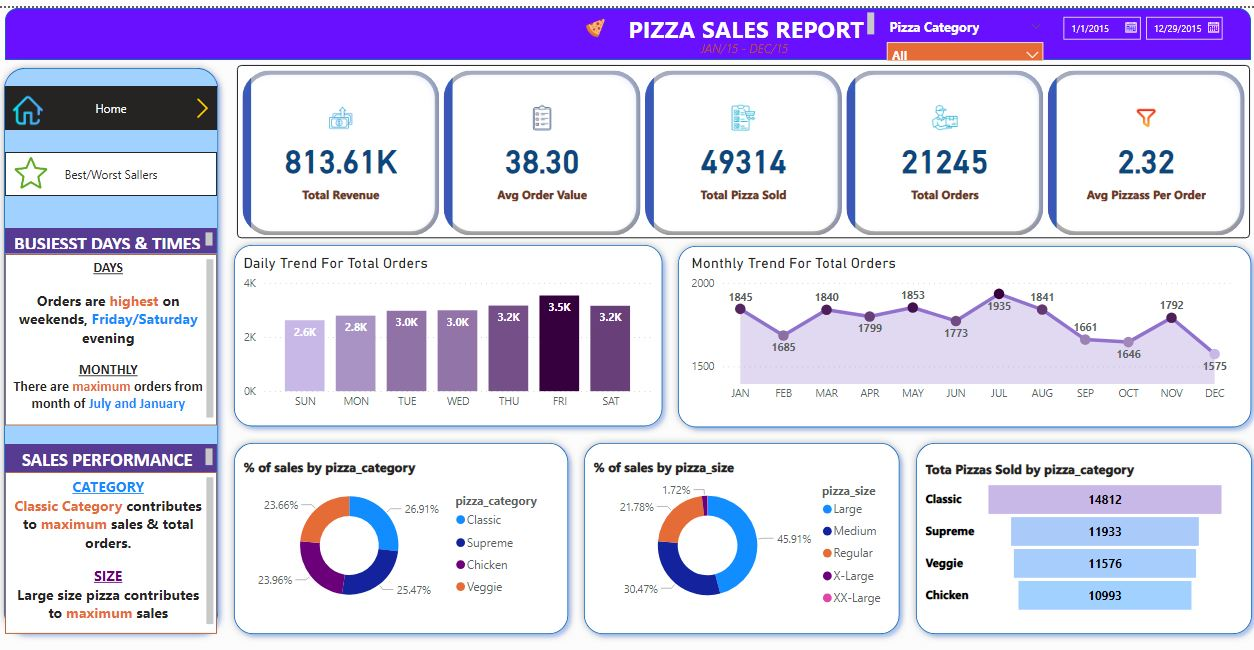

The page's visual inventory and layout, read from the dashboard file:
{"tool":"powerbi","page":{"name":"Home","canvas":[1500,820],"ordinal":0},"visuals":[{"type":"cardVisual","fields":{"Data":["pizza_sales.Total Revenue","pizza_sales.Avg Order Value","pizza_sales.Total Pizza Sold","pizza_sales.Total Orders","pizza_sales.Avg Pizzass Per Order"]},"box":[323.5,64.7,1152.3,197.1],"z":0},{"type":"shape","box":[59.1,0,1417,59.1],"z":1000},{"type":"textbox","box":[759.4,0,292.7,39.6],"z":2000},{"type":"textbox","box":[844.8,32.3,143.8,30.2],"z":3000},{"type":"image","box":[700,7.3,59.4,32.3],"z":4000},{"type":"shape","box":[48.5,59.6,261.8,661.1],"z":5000},{"type":"shape","box":[310.3,260.8,505.4,224.4],"z":6000},{"type":"shape","box":[310.3,485.2,398.2,235.5],"z":7000},{"type":"textbox","box":[58.6,250.7,240.6,29.3],"z":8000},{"type":"shape","box":[708.6,485.2,377,235.5],"z":9000},{"type":"shape","box":[1085.6,485.2,400.3,235.5],"z":10000},{"type":"columnChart","title":"Daily Trend For Total Orders","fields":{"Category":["pizza_sales.Order Day"],"Y":["pizza_sales.Total Orders"]},"box":[325.5,280,474.1,186],"z":11000},{"type":"shape","box":[815.7,261.8,670.1,224.4],"z":12000},{"type":"areaChart","title":"Monthly Trend For Total Orders","fields":{"Category":["pizza_sales.Order Month"],"Y":["pizza_sales.Total Orders"]},"box":[834.9,280,624.7,176.9],"z":13000},{"type":"donutChart","title":"% of sales by pizza_category","fields":{"Category":["pizza_sales.pizza_category"],"Y":["pizza_sales.Total Revenue"]},"box":[325.5,511.5,359.8,178.9],"z":14000},{"type":"donutChart","title":"% of sales by pizza_size","fields":{"Category":["pizza_sales.pizza_size"],"Y":["pizza_sales.Total Revenue"]},"box":[722.7,511.5,349.7,178.9],"z":15000},{"type":"funnel","title":"Tota Pizzas Sold by pizza_category","fields":{"Y":["pizza_sales.Total Pizza Sold"],"Category":["pizza_sales.pizza_category"]},"box":[1100.7,513.5,351.8,178.9],"z":16000},{"type":"textbox","box":[58.6,280,240.6,195.1],"z":17000},{"type":"textbox","box":[58.6,495.3,240.6,32.3],"z":18000},{"type":"textbox","box":[58.6,527.6,240.6,184],"z":19000},{"type":"slicer","fields":{"Values":["pizza_sales.pizza_category"]},"box":[1052.2,7.1,198.1,52.6],"z":20000},{"type":"slicer","fields":{"Values":["pizza_sales.order_date"]},"box":[1250.3,0,225.4,62.7],"z":21000},{"type":"pageNavigator","box":[59.1,88.7,241.1,50],"z":22000},{"type":"pageNavigator","box":[59.1,163.8,241.1,50],"z":23000},{"type":"image","box":[267.2,94.4,33,38.7],"z":24000},{"type":"image","box":[59.1,94.4,51.2,44.4],"z":25000},{"type":"image","box":[59.1,163.8,59.1,46.6],"z":26000}]}

Visuals, with their boxes on the page's 1500x820 design canvas (x1, y1, x2, y2). These are canvas units, not pixel positions in the 1254x650 screenshot, which may show the page scaled, cropped or inside an application window:
cardVisual - pizza_sales.Total Revenue x pizza_sales.Avg Order Value: 324,65,1476,262
shape: 59,0,1476,59
textbox: 759,0,1052,40
textbox: 845,32,989,62
image: 700,7,759,40
shape: 48,60,310,721
shape: 310,261,816,485
shape: 310,485,708,721
textbox: 59,251,299,280
shape: 709,485,1086,721
shape: 1086,485,1486,721
"Daily Trend For Total Orders" columnChart: 326,280,800,466
shape: 816,262,1486,486
"Monthly Trend For Total Orders" areaChart: 835,280,1460,457
"% of sales by pizza_category" donutChart: 326,512,685,690
"% of sales by pizza_size" donutChart: 723,512,1072,690
"Tota Pizzas Sold by pizza_category" funnel: 1101,514,1452,692
textbox: 59,280,299,475
textbox: 59,495,299,528
textbox: 59,528,299,712
slicer - pizza_sales.pizza_category: 1052,7,1250,60
slicer - pizza_sales.order_date: 1250,0,1476,63
pageNavigator: 59,89,300,139
pageNavigator: 59,164,300,214
image: 267,94,300,133
image: 59,94,110,139
image: 59,164,118,210
